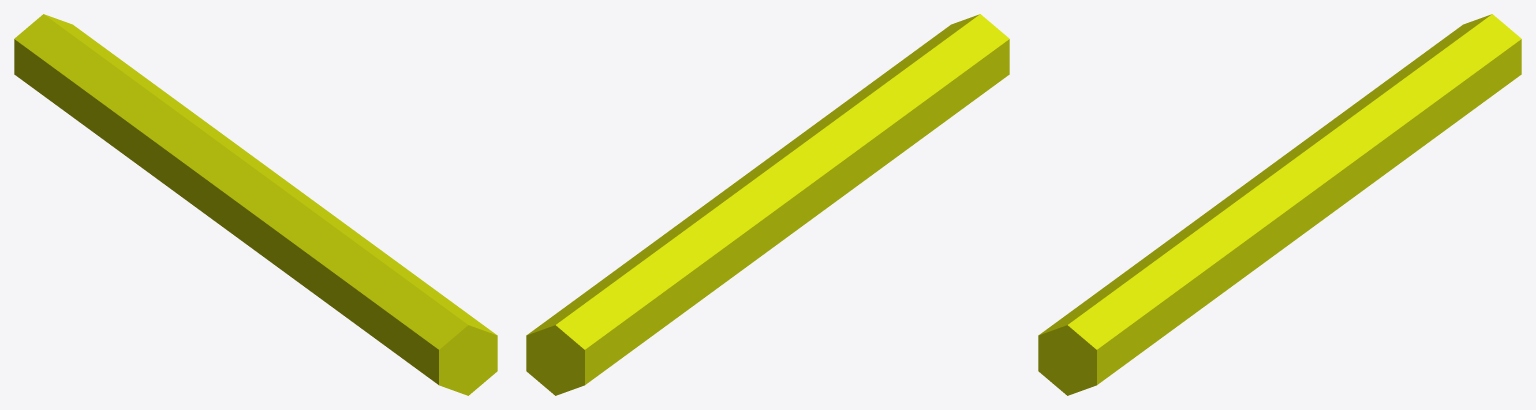
File: mustard_hotdog.fbx
3 views of the same model, side by side, from view 1: azimuth 30°, elevation 25°; view 2: azimuth 150°, elevation 25°; view 3: azimuth 330°, elevation 25° (orthographic).
Parts seen in each view (by area): view 1: mustard_hotdog; view 2: mustard_hotdog; view 3: mustard_hotdog.
Boxes of the visible parts, box(x1,y1,x2,y2) form: mustard_hotdog: box(14, 14, 497, 395); mustard_hotdog: box(526, 14, 1009, 395); mustard_hotdog: box(1038, 14, 1521, 395).
Size of the model in its own units: 1.17 by 1.35 by 14.68.
